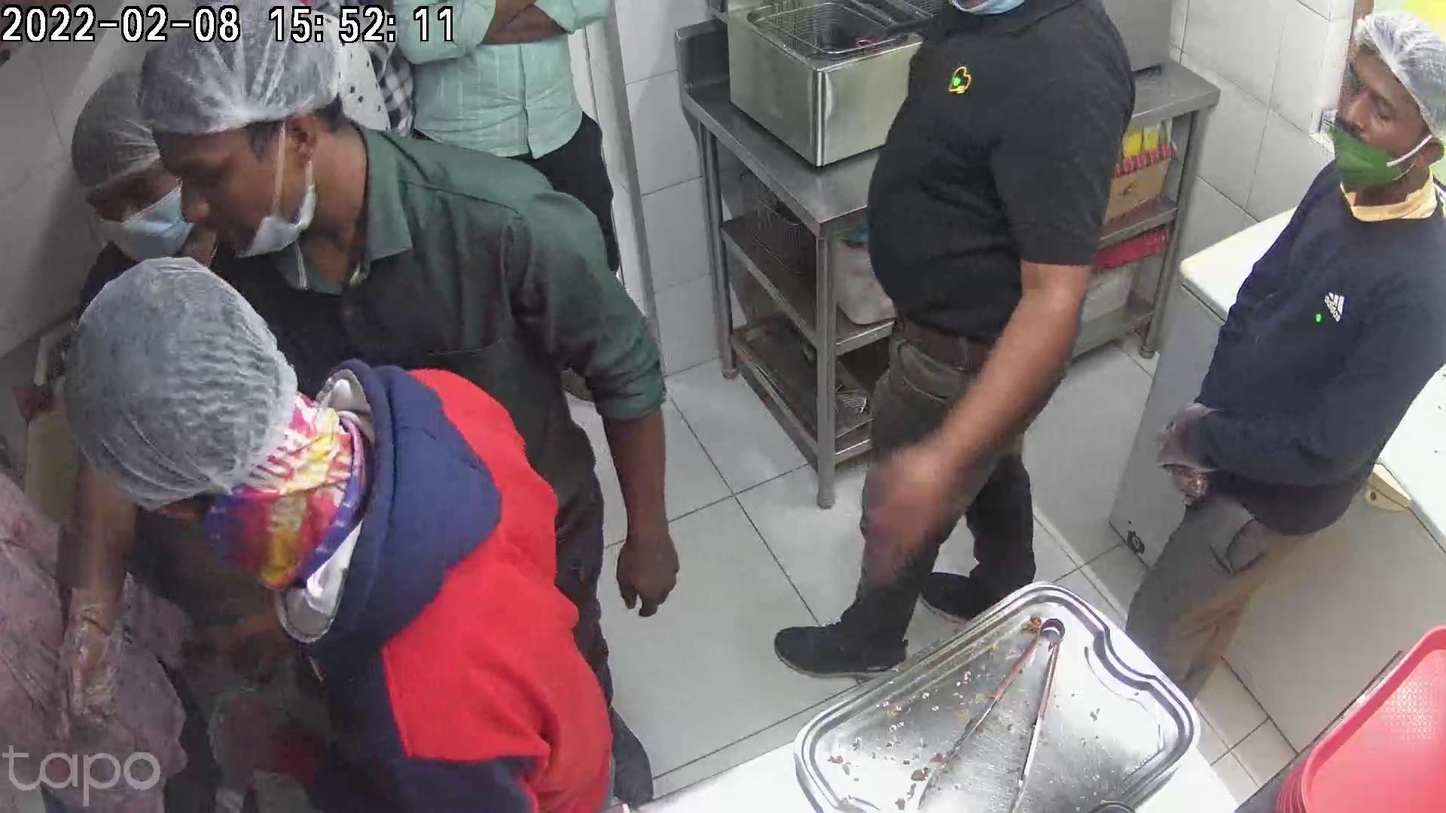no_gloves: (617, 490, 679, 617)
